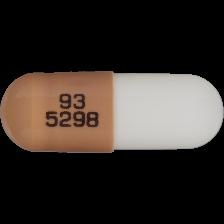0093-5298: (0, 0, 224, 224)
